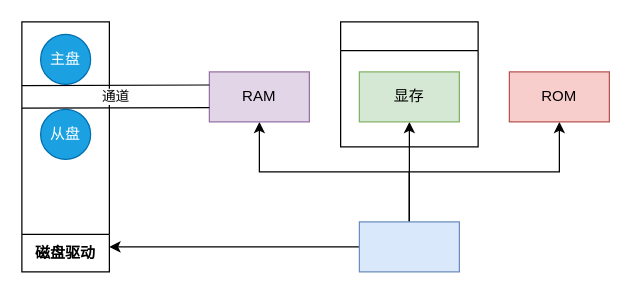
The diagram is 633 pixels wide and 294 high, and some of its shapes have lost their labels. The centre of each missing label's shape, as x and y in pixels:
"CPU" goes at (x=408, y=246).
"显卡" goes at (x=408, y=84).
